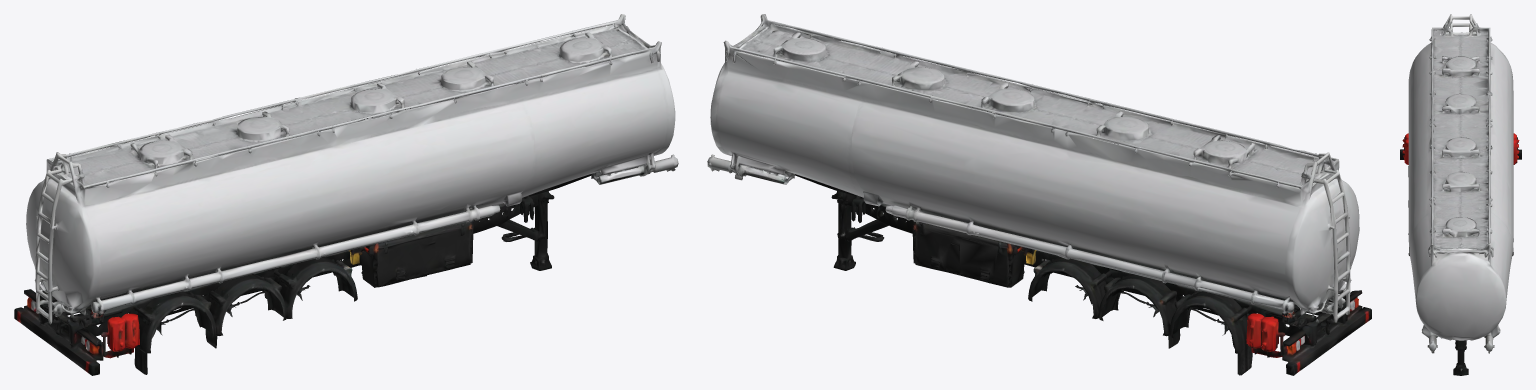
The model's file is exoil-trailer.85e78eedf1.glb.
The picture shows the model from 3 angles, left to right: view 1: azimuth 30°, elevation 25°; view 2: azimuth 150°, elevation 25°; view 3: azimuth 270°, elevation 25°; orthographic projection. The views are drawn at different scales.
Parts seen in each view (by area): view 1: tripo_node_ef9091f7-d827-40a6-b3fd-3eefbc746df1; view 2: tripo_node_ef9091f7-d827-40a6-b3fd-3eefbc746df1; view 3: tripo_node_ef9091f7-d827-40a6-b3fd-3eefbc746df1.
Boxes of the visible parts, box(x1,y1,x2,y2) form: tripo_node_ef9091f7-d827-40a6-b3fd-3eefbc746df1: box(14, 14, 678, 375); tripo_node_ef9091f7-d827-40a6-b3fd-3eefbc746df1: box(707, 14, 1371, 375); tripo_node_ef9091f7-d827-40a6-b3fd-3eefbc746df1: box(1400, 14, 1521, 375).
Bounding box in the file's own units: 11.87 × 4.14 × 2.59.
1 material, 1 textured.
